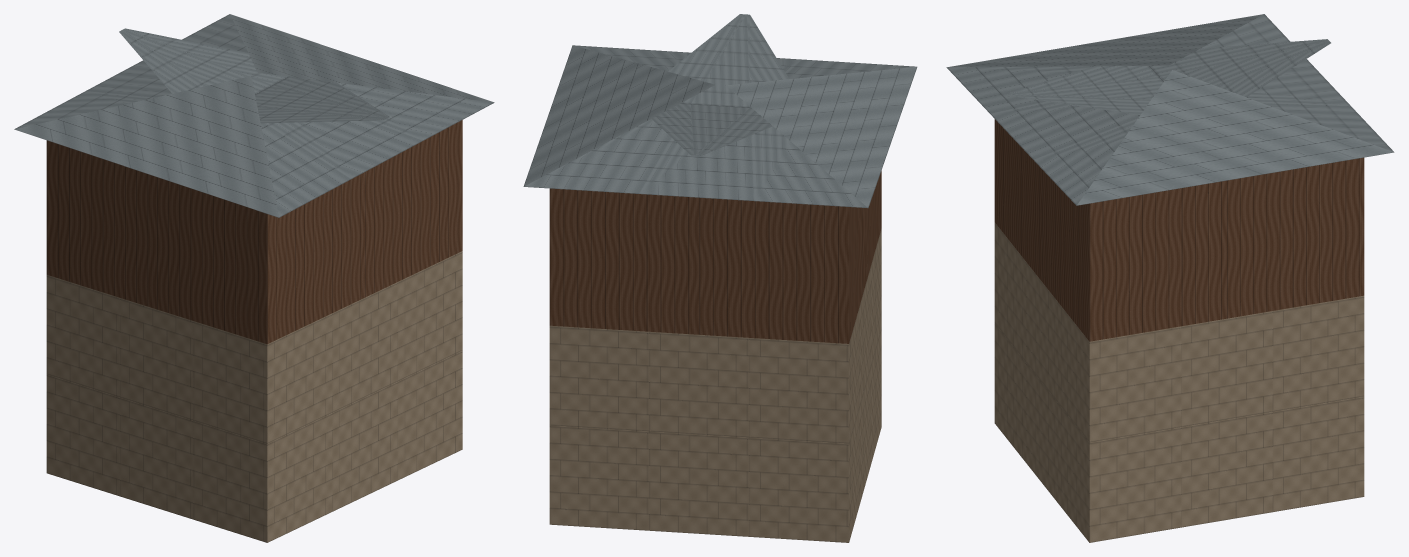
The model's file is bld_c-36_46_761.gltf.
3 views of the same model, side by side, from view 1: azimuth 30°, elevation 25°; view 2: azimuth 150°, elevation 25°; view 3: azimuth 270°, elevation 25° (orthographic).
Parts seen in each view (by area): view 1: bld_c-36_46_761; view 2: bld_c-36_46_761; view 3: bld_c-36_46_761.
Part boxes in pixels (bbox=[...]): bld_c-36_46_761: bbox=[14, 14, 494, 542]; bld_c-36_46_761: bbox=[523, 14, 917, 542]; bld_c-36_46_761: bbox=[946, 14, 1394, 542].
Size of the model in its own units: 9.76 by 9.3 by 9.64.
Materials: 3 (3 with a texture image).
